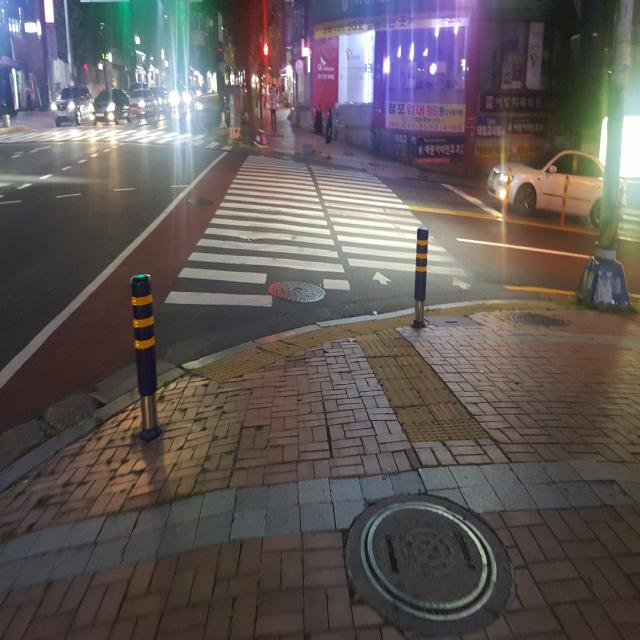빨간불: (263, 39, 269, 69)
횡단보도: (163, 153, 472, 311), (13, 125, 219, 148)
